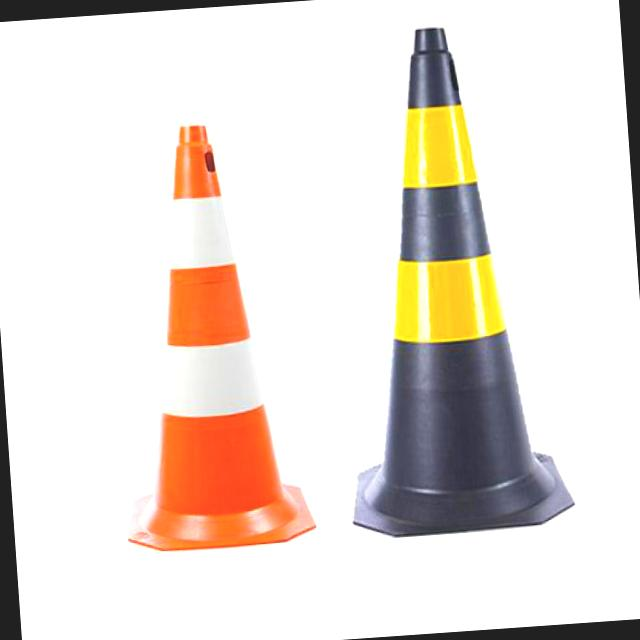cone: (324, 24, 562, 534), (100, 120, 318, 564)
